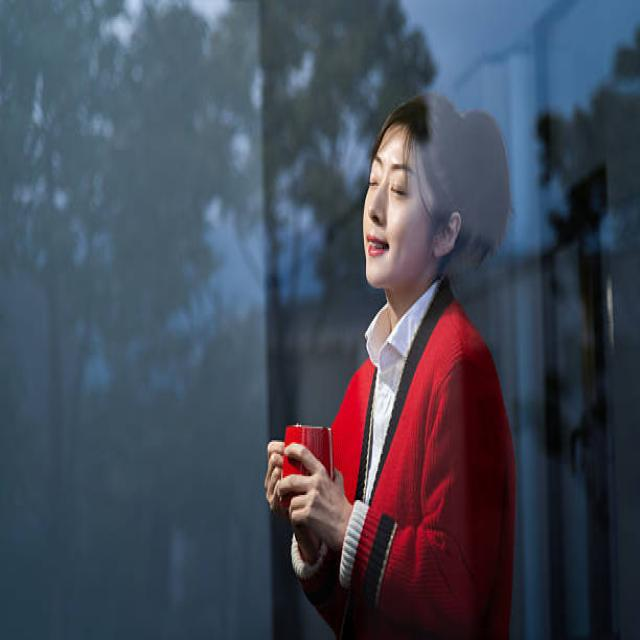Red_cup: (285, 424, 333, 479)
